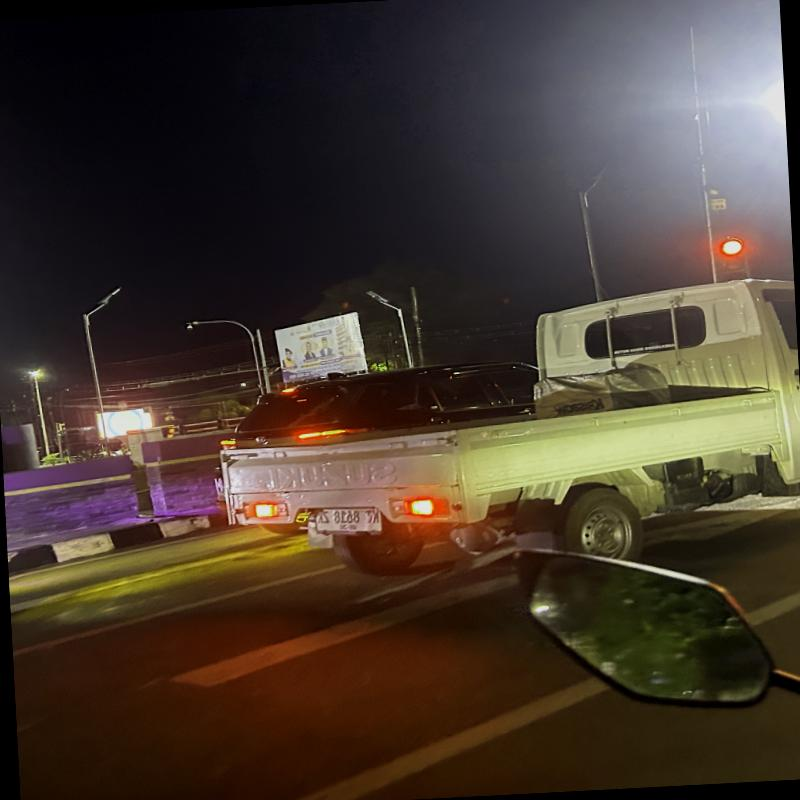license plate on a car: (312, 506, 386, 540)
